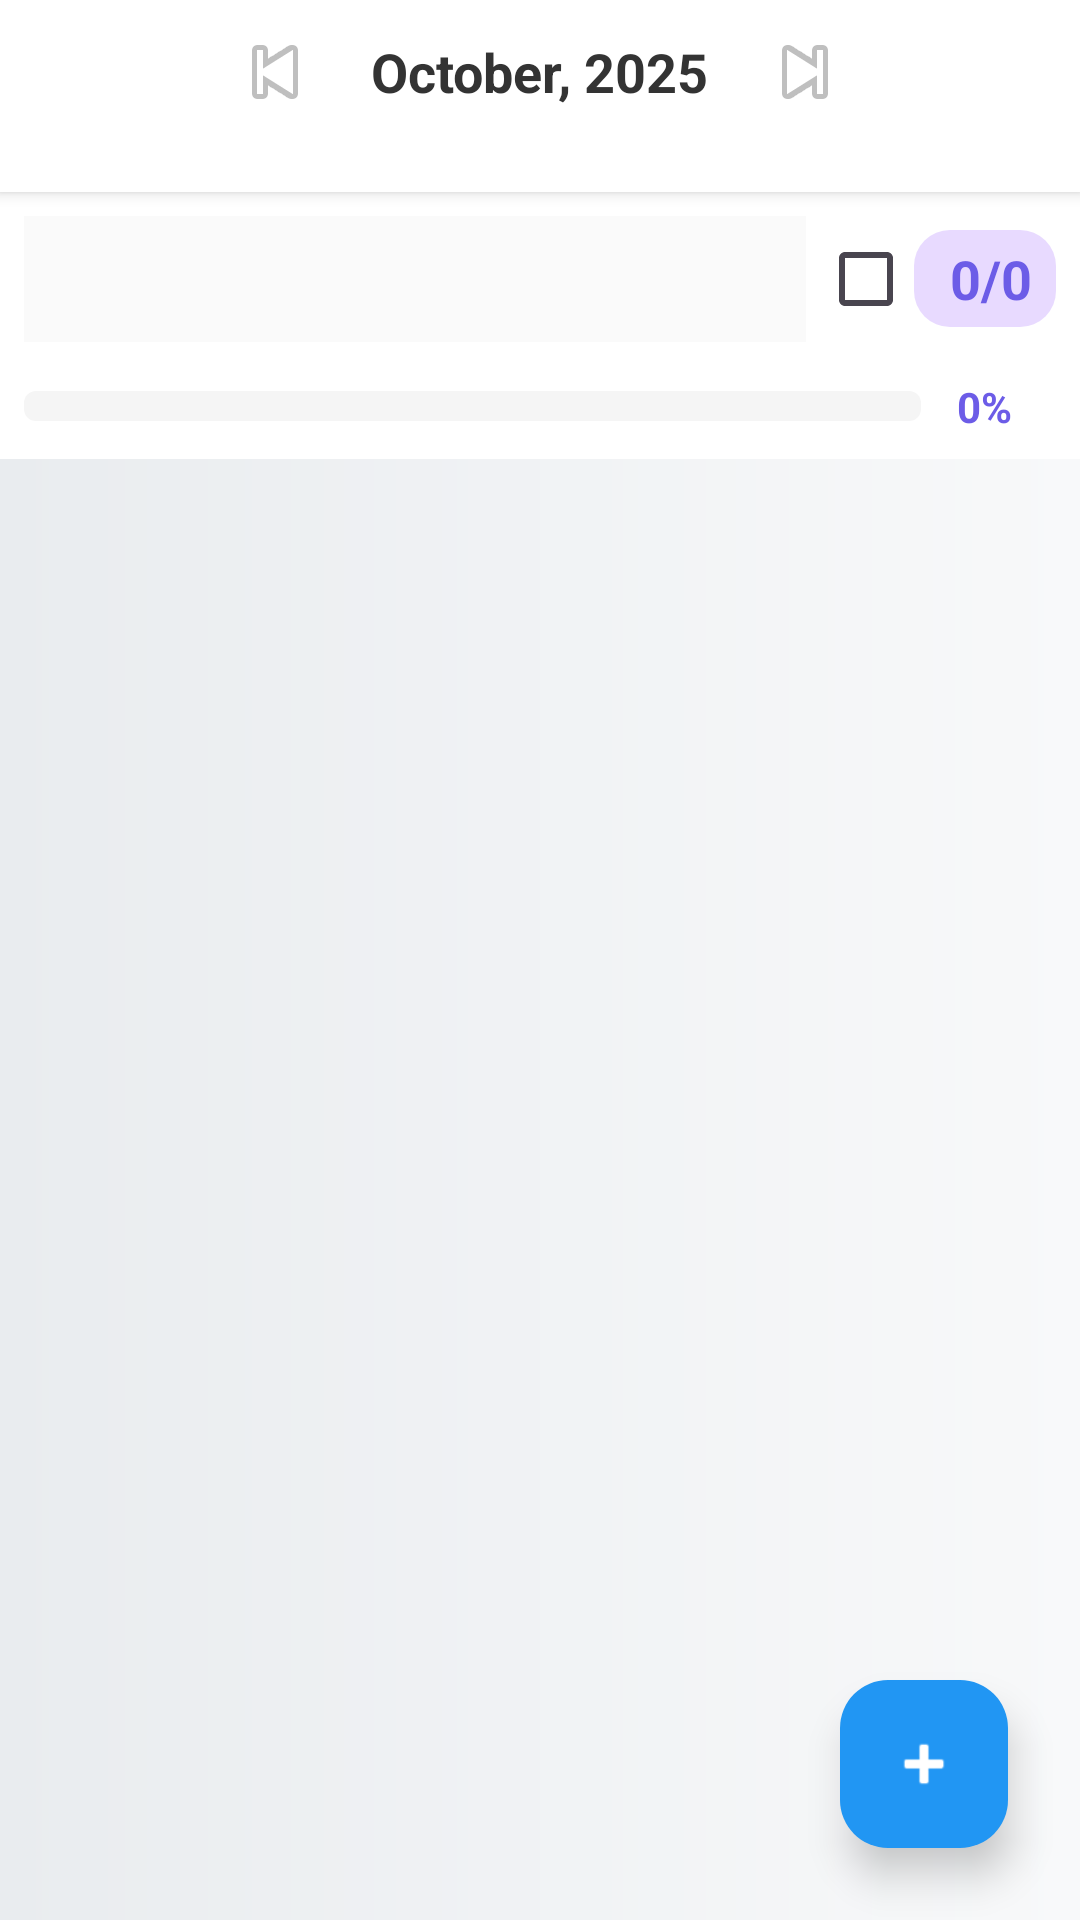

Screen size 1080×1920. Icon name, then its center in pixels as (x,y):
Add new task: (924,1764)
Next month: (805,72)
Previous month: (275,72)
